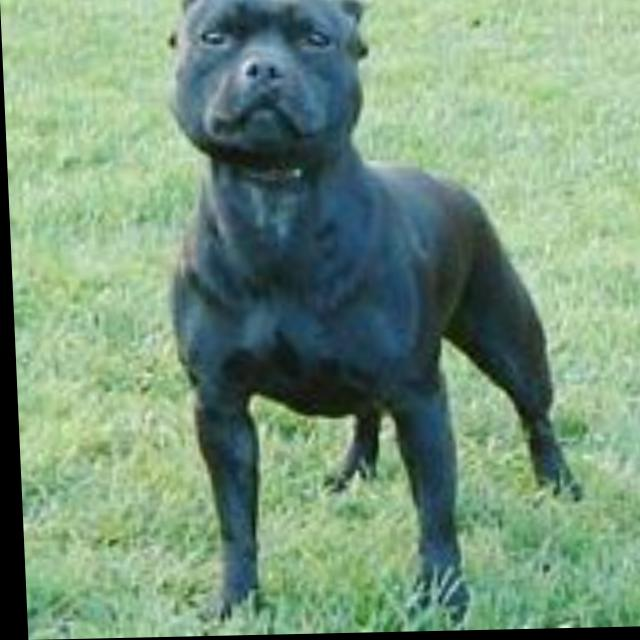staffford: (153, 1, 586, 630)
